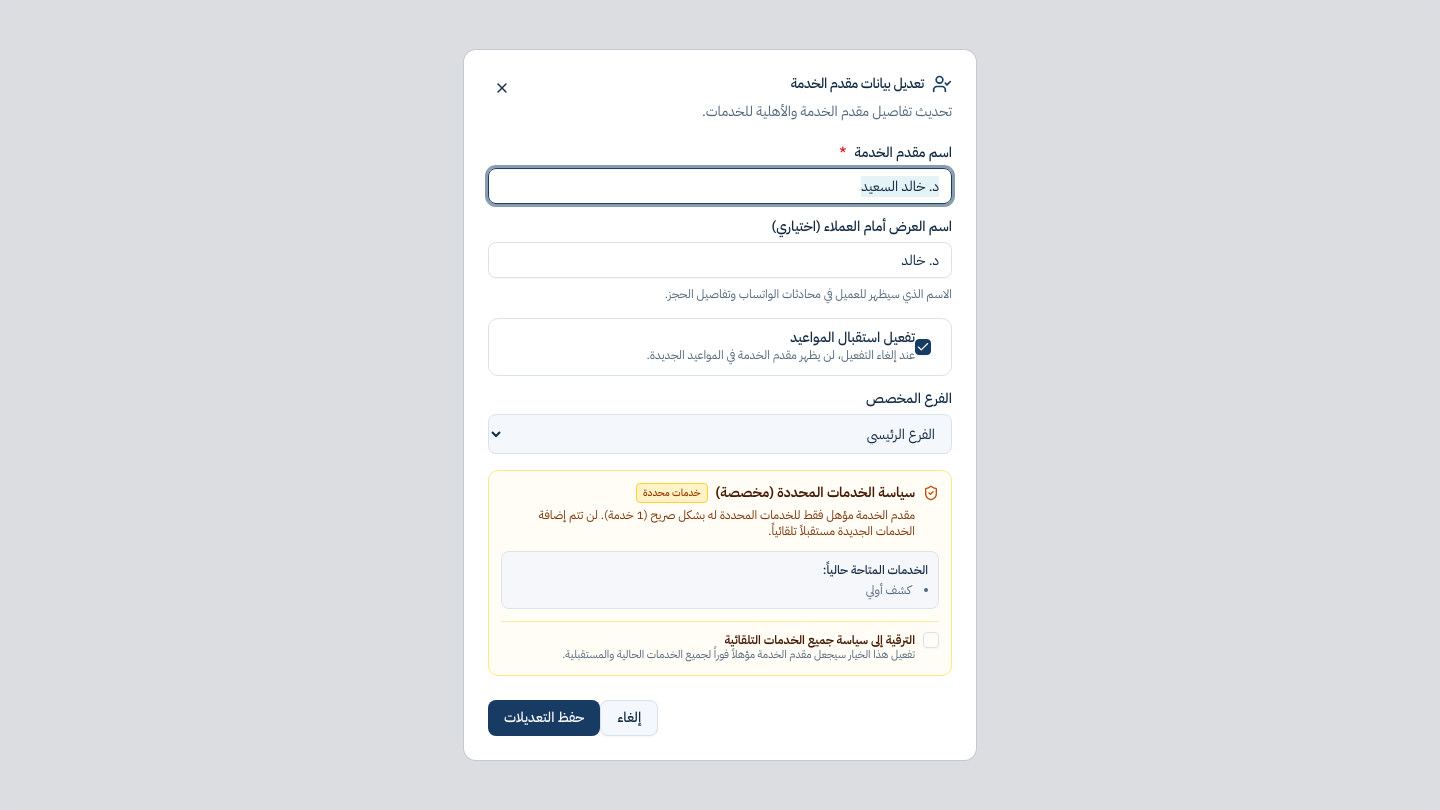
Test: ProviderDialog interaction and policy upgrade tests (ISS-003) › 2. select and undo: keeps upgrade visible and reversible before save
Note: Check the upgrade checkbox
Click the checkbox with id "upgrade-to-all-services": [931, 640] box x1=923 y1=632 x2=939 y2=648
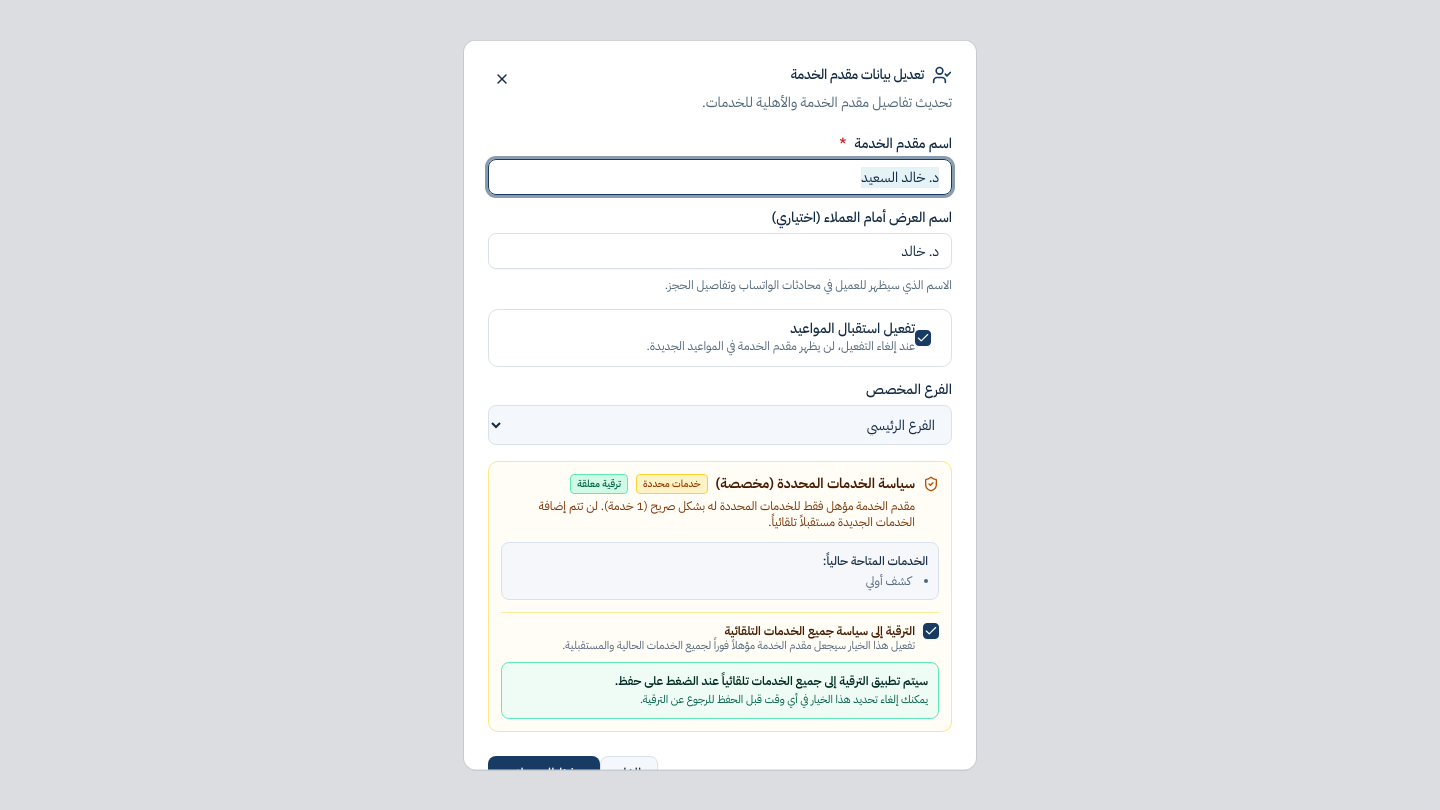
Expected: the text "سيتم تطبيق الترقية إلى جميع الخدمات تلقائياً عند الضغط على حفظ." is shown, x1=615 y1=671 x2=928 y2=689
Expected: the text "ترقية معلقة" is shown, x1=570 y1=474 x2=628 y2=494
Note: Uncheck to undo
Click the checkbox with id "upgrade-to-all-services": [931, 631] box x1=923 y1=623 x2=939 y2=639
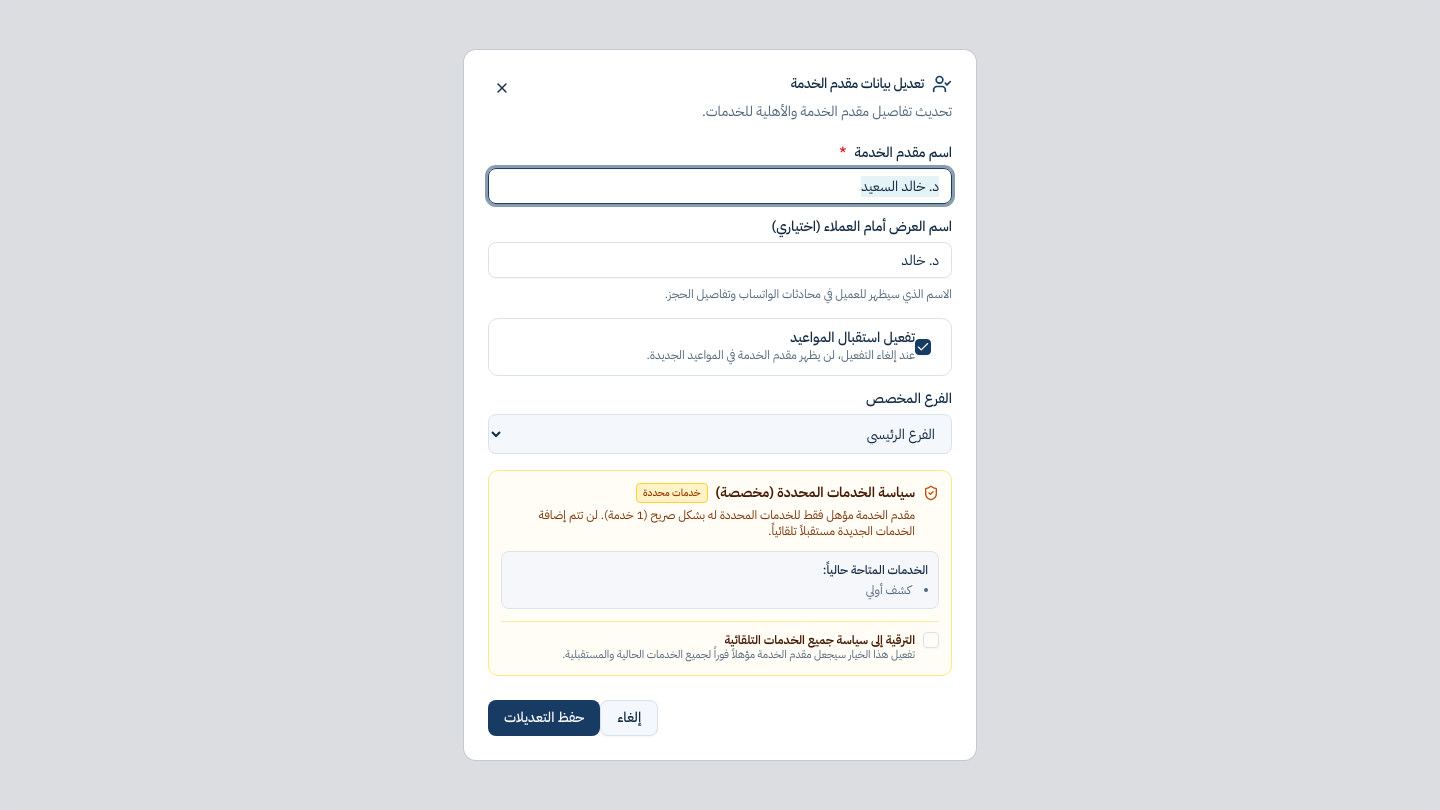
Expected: the text "سيتم تطبيق الترقية إلى جميع الخدمات تلقائياً عند الضغط على حفظ." is gone
